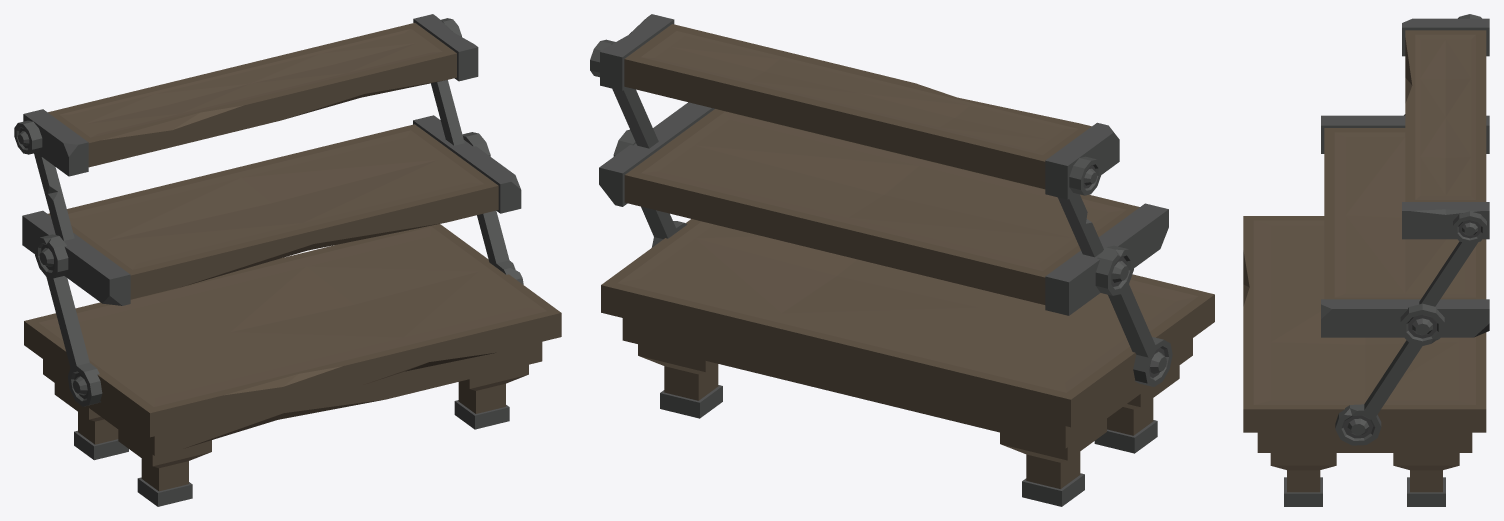
File: SFHW_Shelving_15.fbx
The picture shows the model from 3 angles, left to right: view 1: azimuth 30°, elevation 25°; view 2: azimuth 150°, elevation 25°; view 3: azimuth 270°, elevation 25°; orthographic projection. The views are drawn at different scales.
Visible parts, largest first — view 1: SFHW_Shelving_15; view 2: SFHW_Shelving_15; view 3: SFHW_Shelving_15.
Boxes of the visible parts, left/top/right/bottom form: SFHW_Shelving_15: left=14, top=14, right=561, bottom=506; SFHW_Shelving_15: left=590, top=14, right=1214, bottom=506; SFHW_Shelving_15: left=1243, top=14, right=1489, bottom=506.
Bounding box in the file's own units: 134 × 93.51 × 67.28.
